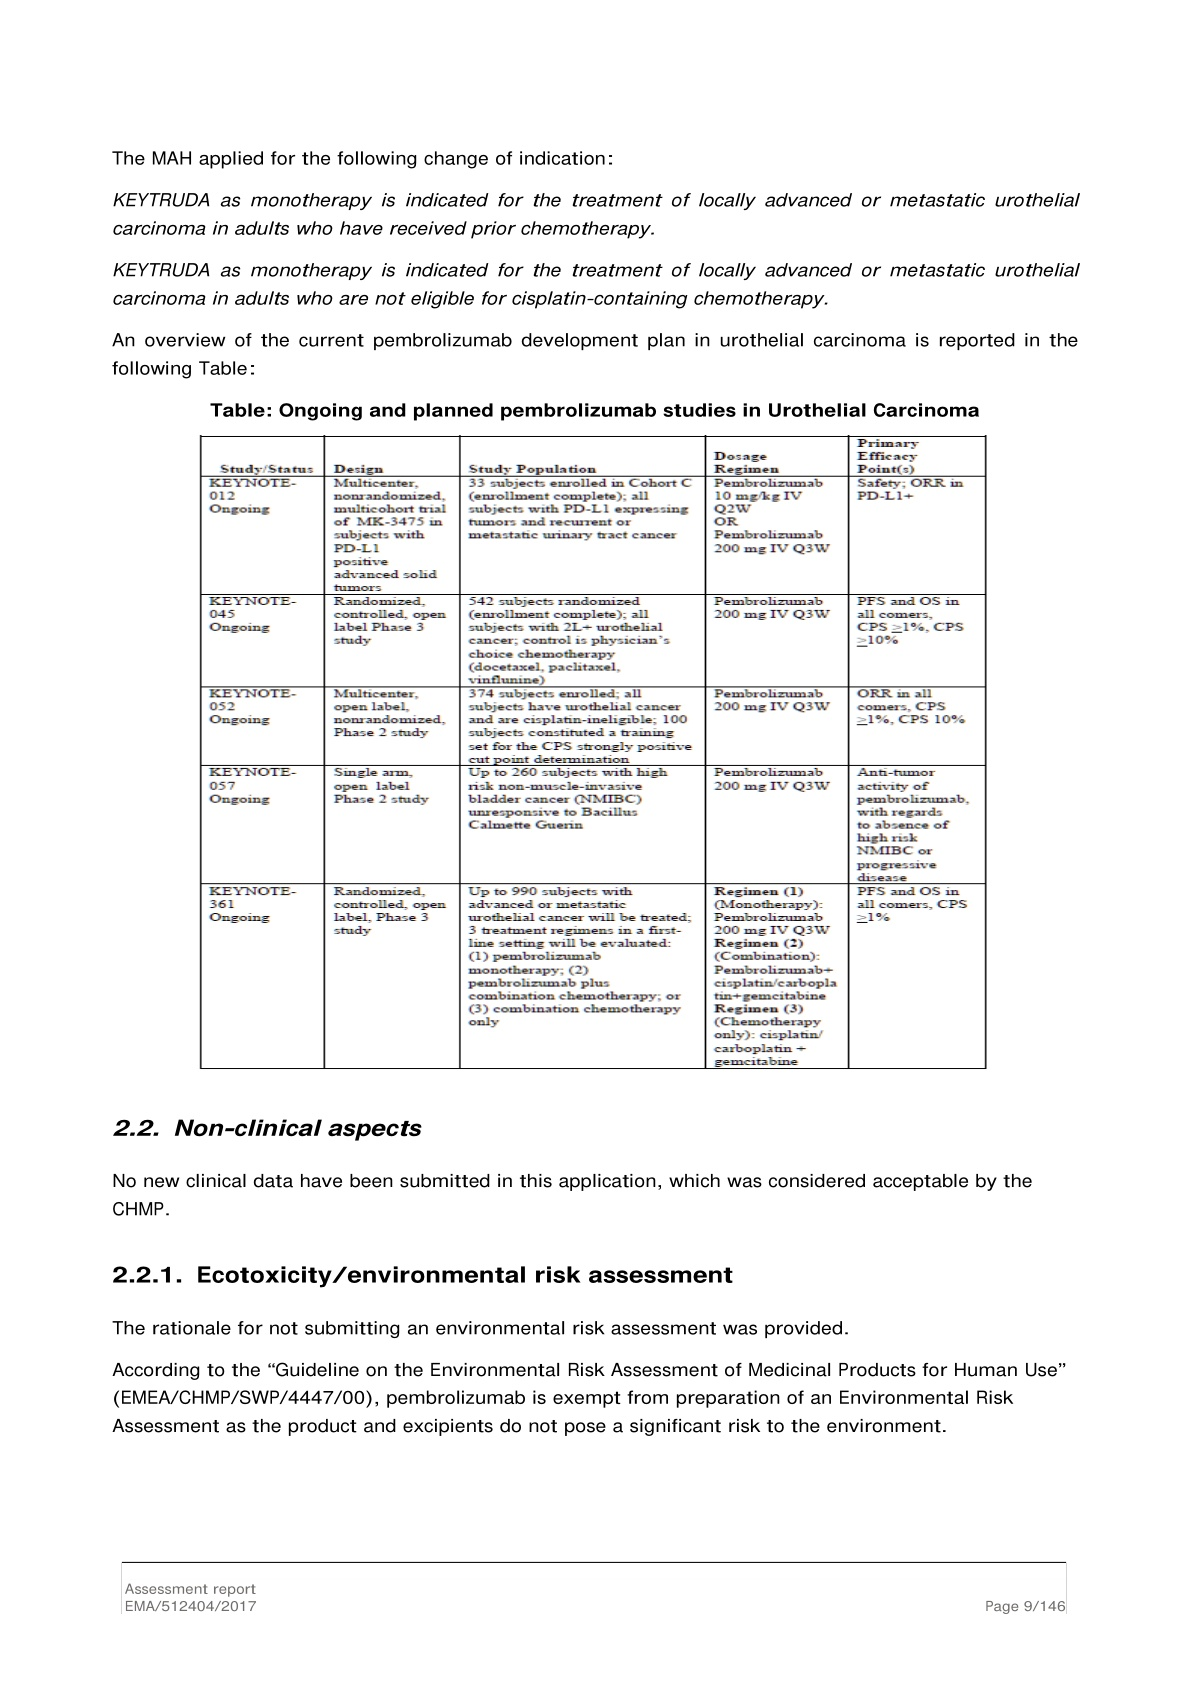full_lined: (200, 434, 988, 1070)
